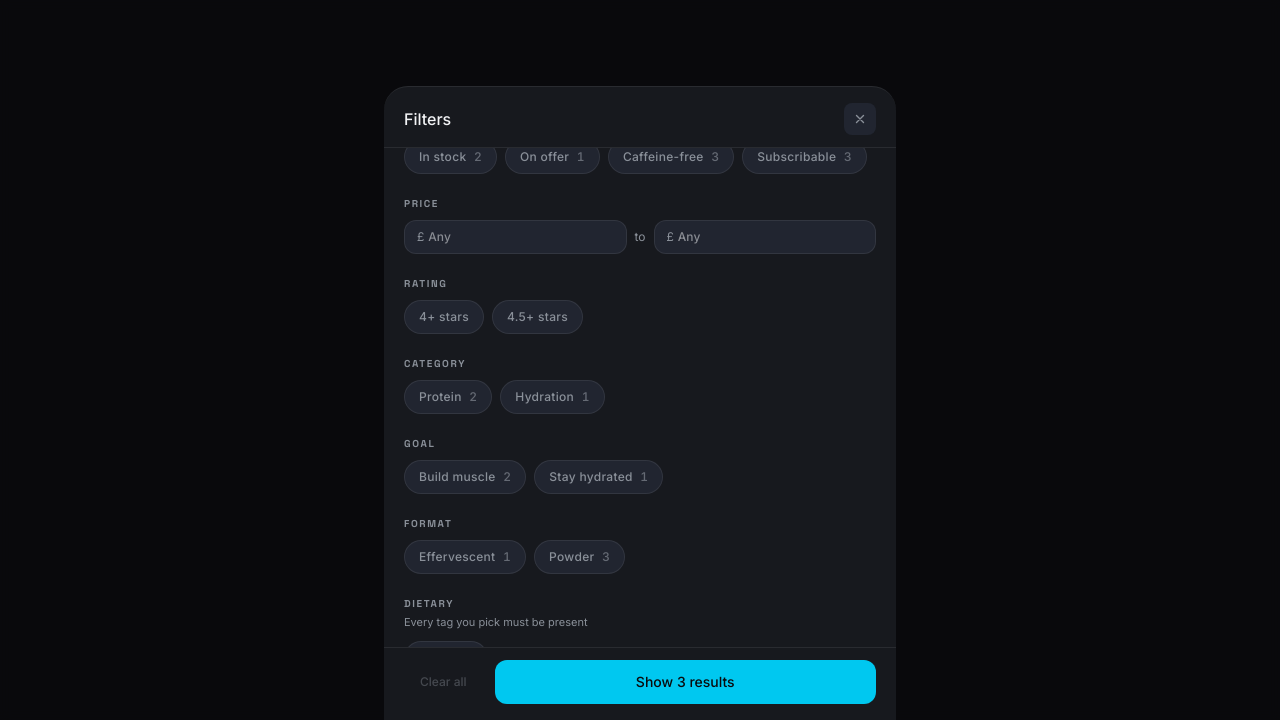
Test case: ShopFilterSheet › disables an option with nothing behind it rather than hiding it
(page scrolled)
Click the button "Hydration 1" at (552, 397), box [500, 380, 605, 414]
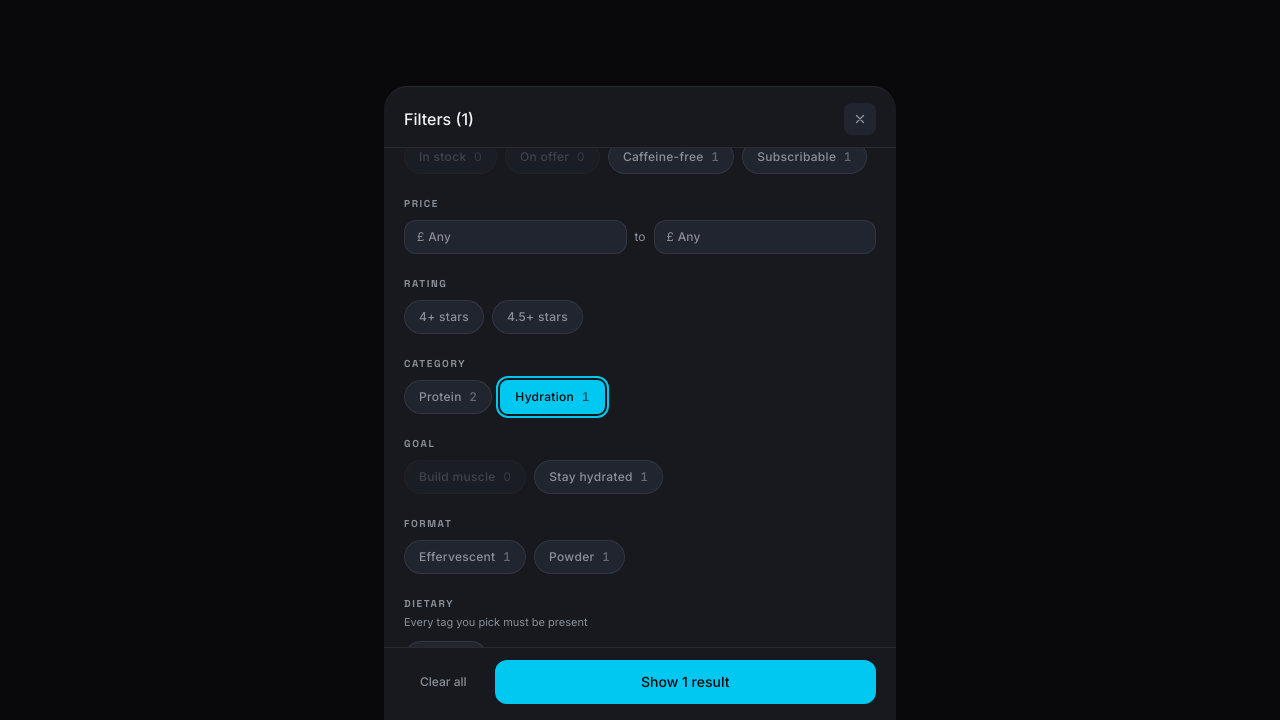
Expected: the button "Protein 2" is enabled, [404, 380, 492, 414]
Now the button "On offer 0" is disabled, box [505, 148, 600, 174]
